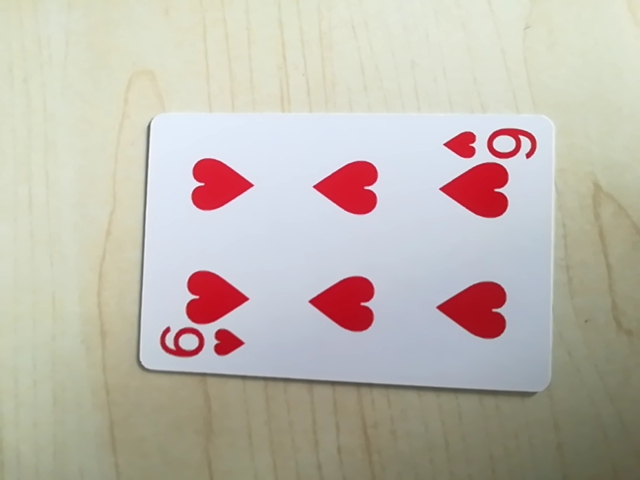hx 6: (153, 322, 246, 369), (440, 123, 542, 165)
